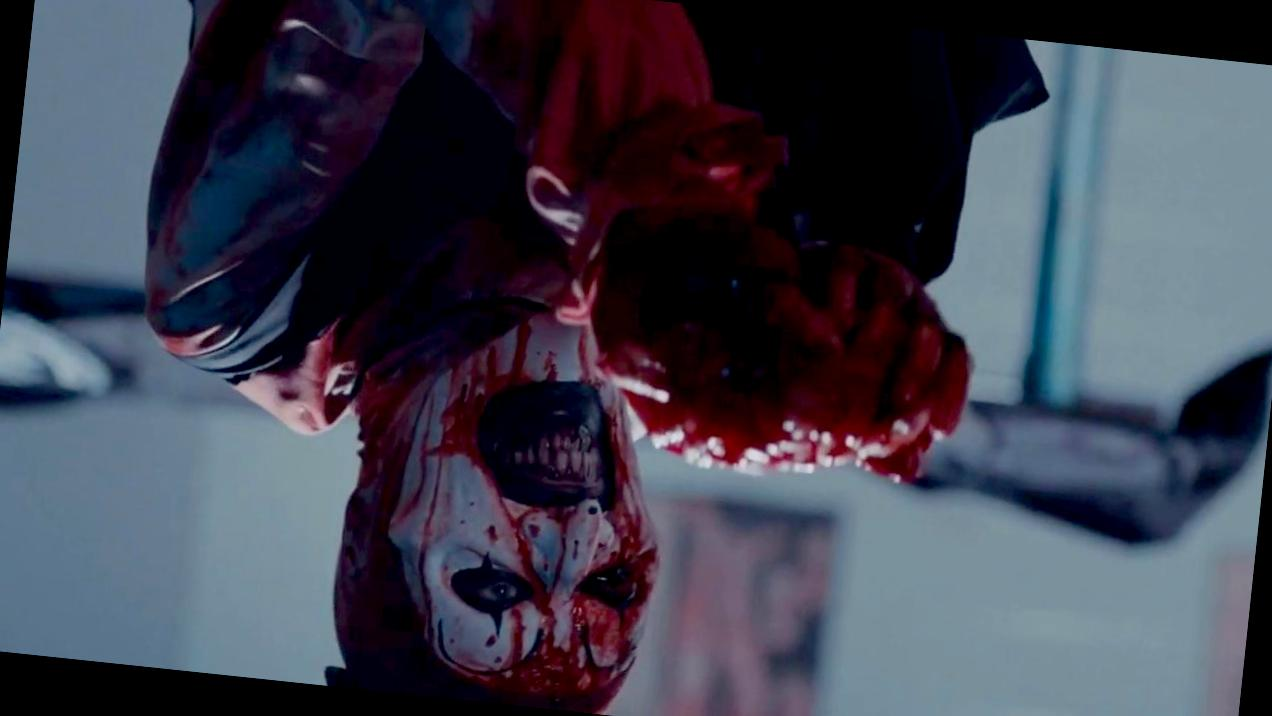Fire: (145, 0, 970, 713)
